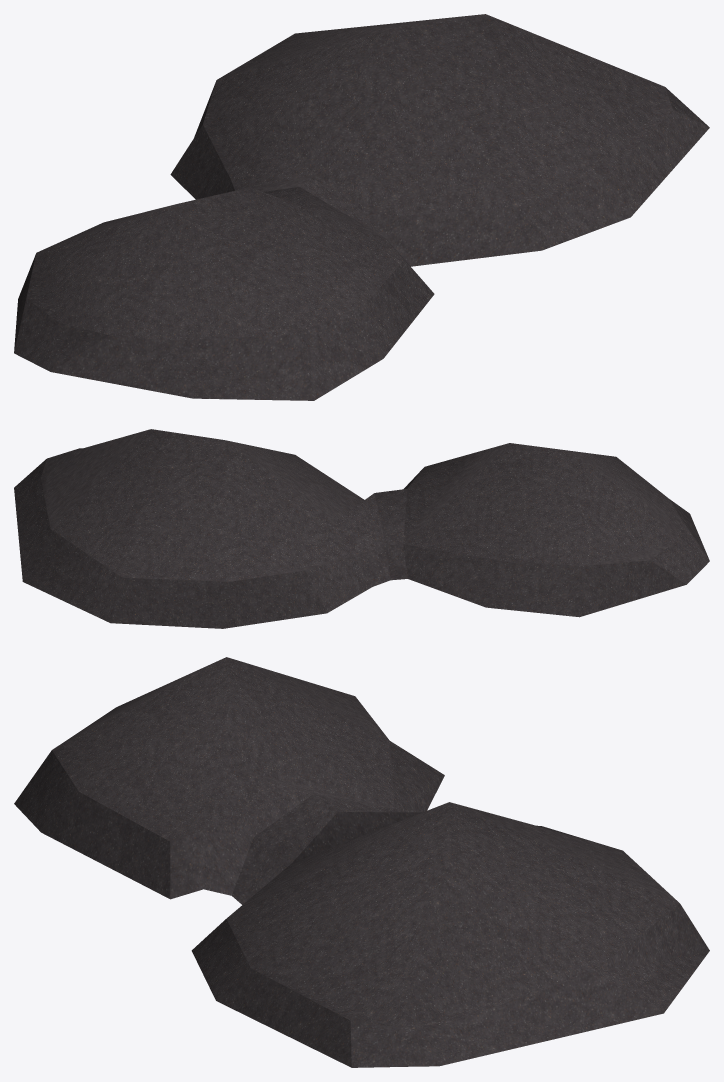
Rendered from GunPowder_FBX.fbx.
3 views of the same model, one above another, from view 1: azimuth 30°, elevation 25°; view 2: azimuth 150°, elevation 25°; view 3: azimuth 270°, elevation 25° (orthographic). The views are drawn at different scales.
Parts seen in each view (by area): view 1: Gun_Powder; view 2: Gun_Powder; view 3: Gun_Powder.
Boxes of the visible parts, <box> form: Gun_Powder: <box>14,14,709,400</box>; Gun_Powder: <box>14,429,709,628</box>; Gun_Powder: <box>14,657,709,1067</box>.
Size of the model in its own units: 1.15 by 0.2162 by 0.9163.
Materials: 1 (1 with a texture image).
